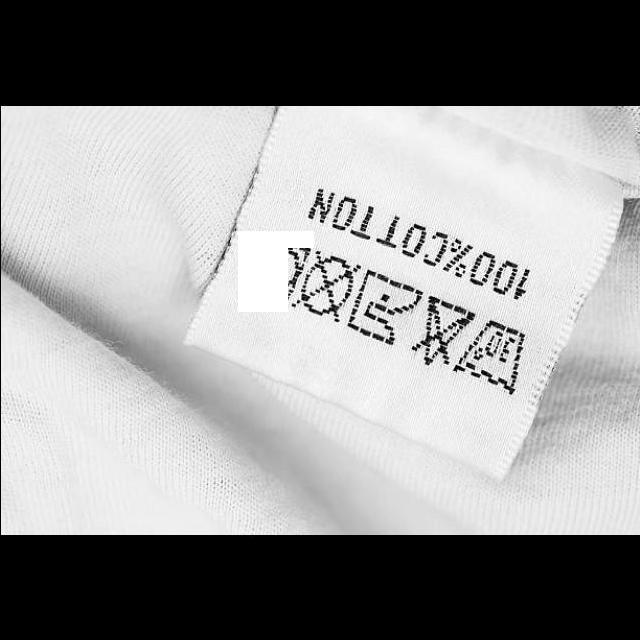30C: (451, 316, 529, 400)
DN_bleach: (411, 292, 479, 373)
DN_dry_clean: (288, 248, 366, 328)
iron_low: (343, 266, 425, 350)
